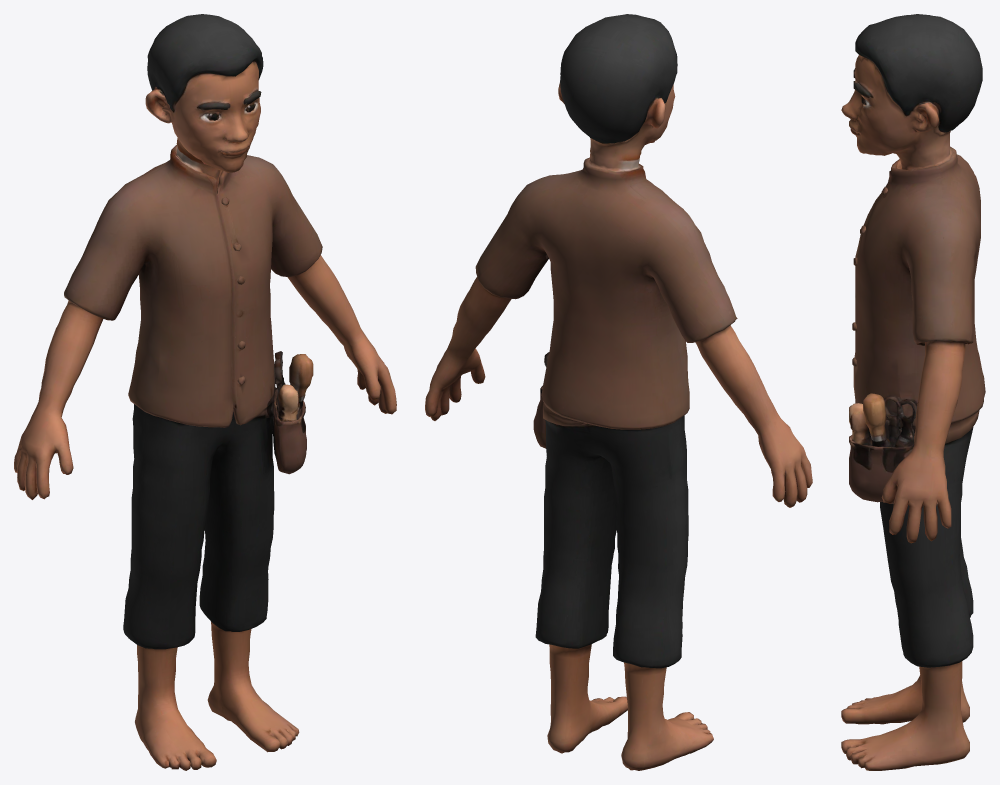
The model's file is chu-dung.503ded19.glb.
3 views of the same model, side by side, from view 1: azimuth 30°, elevation 25°; view 2: azimuth 150°, elevation 25°; view 3: azimuth 270°, elevation 25° (orthographic).
Visible parts, largest first — view 1: tripo_node_b987edf8-6483-4a6c-b7e8-349e616744ed; view 2: tripo_node_b987edf8-6483-4a6c-b7e8-349e616744ed; view 3: tripo_node_b987edf8-6483-4a6c-b7e8-349e616744ed.
Boxes of the visible parts, x1=… form: tripo_node_b987edf8-6483-4a6c-b7e8-349e616744ed: x1=14, y1=14, x2=396, y2=770; tripo_node_b987edf8-6483-4a6c-b7e8-349e616744ed: x1=425, y1=14, x2=812, y2=770; tripo_node_b987edf8-6483-4a6c-b7e8-349e616744ed: x1=841, y1=14, x2=985, y2=770.
Bounding box in the file's own units: 0.5223 × 0.9777 × 0.1779.
1 material, 1 textured.
